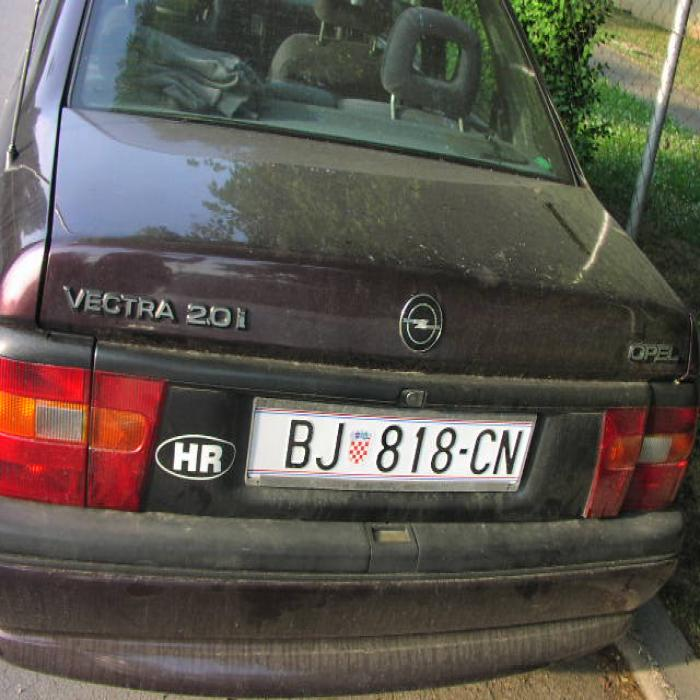number_plate: (249, 417, 522, 478)
